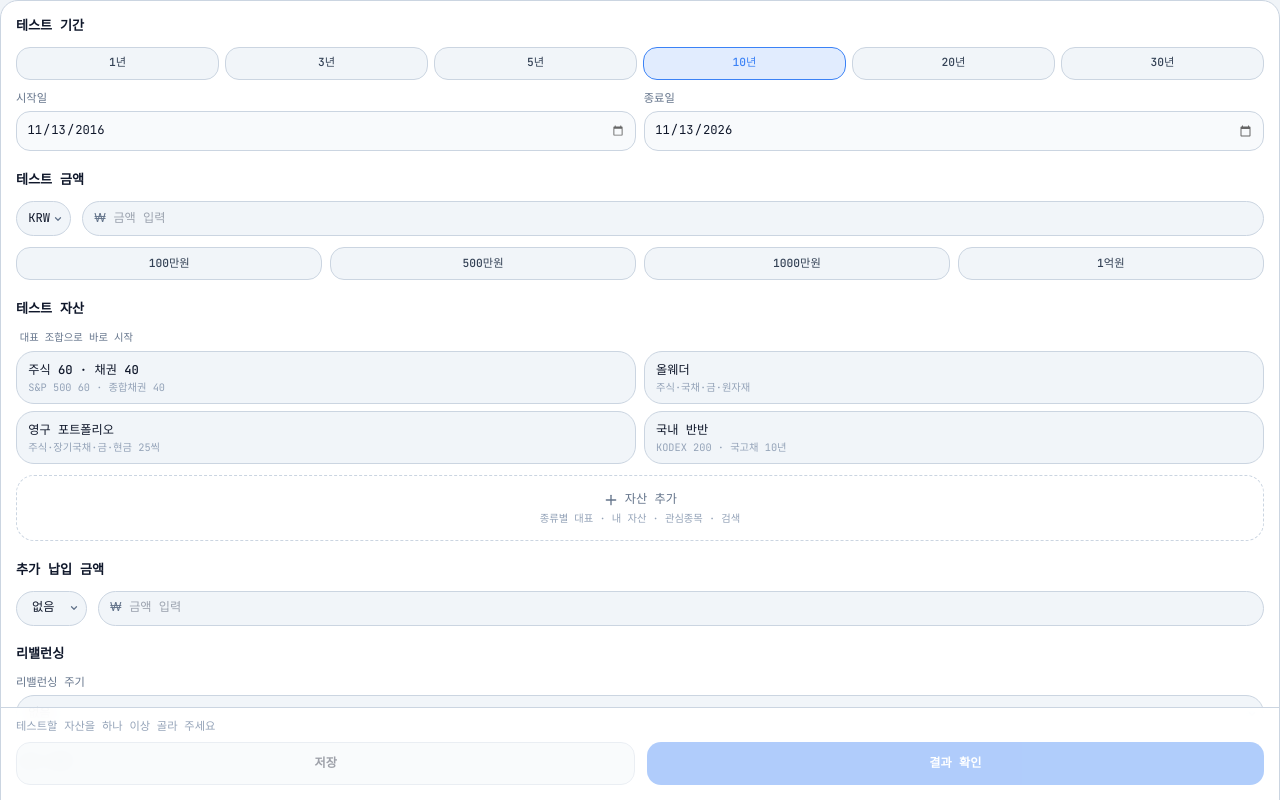
환율을 실제로 받아 쓰고, 그 값을 적는다 › 환율을 못 받았으면 어림값이라고 말한다
What coordinates should you click on to do the following:
click the button labelled "자산 추가 종류별 대표 · 내 자산 · 관심종목 · 검색"
I would click on:
 (640, 508)
Its box is top-left (16, 475), bottom-right (1264, 541).
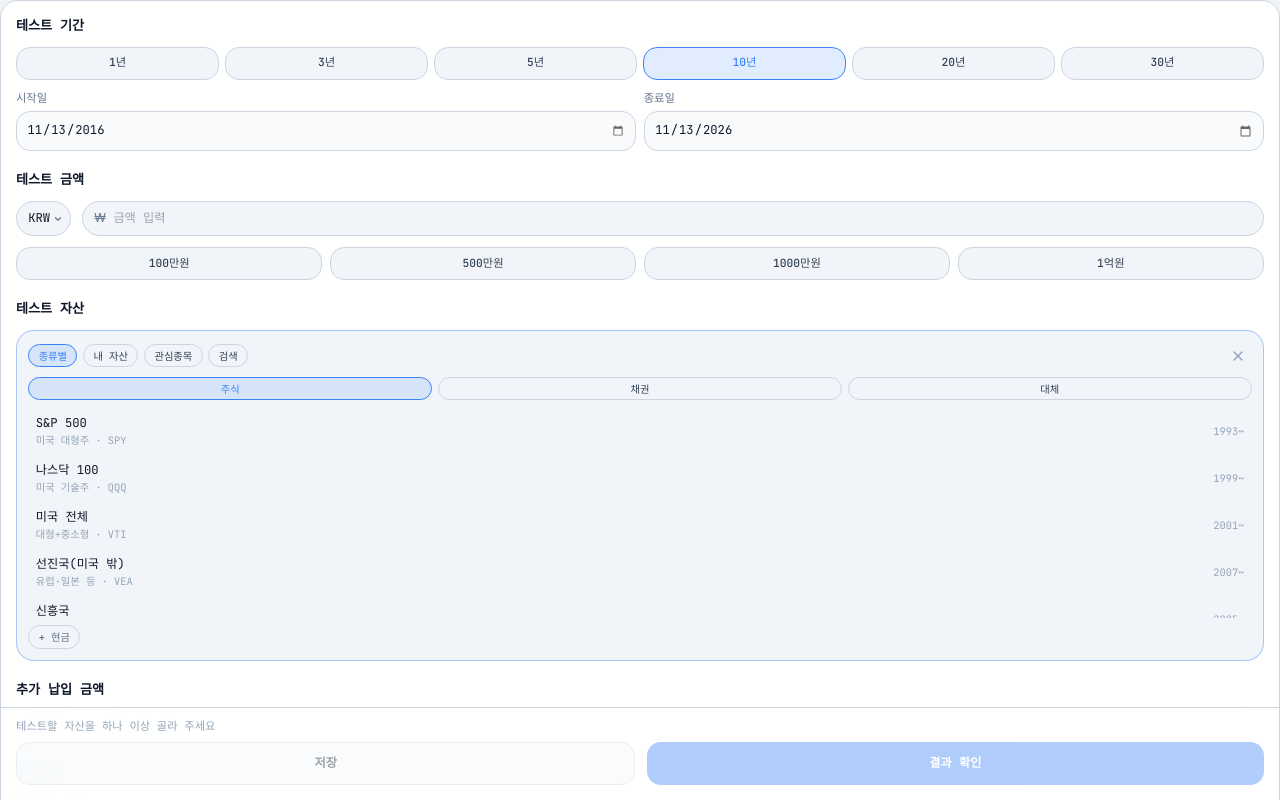
What coordinates should you click on to do the following:
click the button with aria-label "내 자산에서"
I would click on:
 (111, 356)
Its box is top-left (83, 344), bottom-right (138, 367).
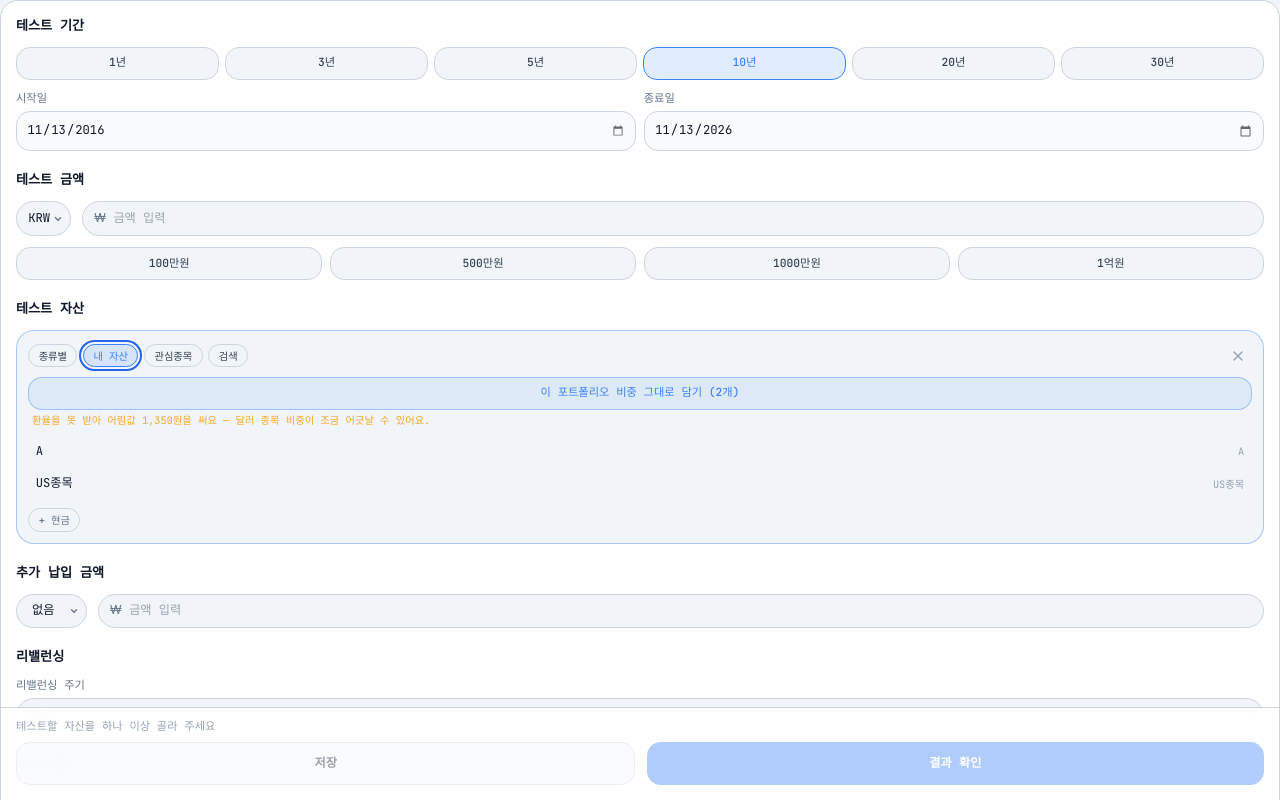
Now the text "환율을 못 받아 어림값 1,350원을 써요 — 달러 종목 비중이 조금 어긋날 수 있어요." is shown, box top-left (32, 413), bottom-right (430, 427)
